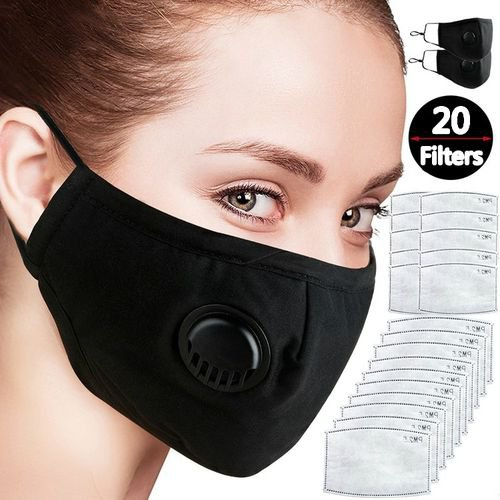mask: (1, 5, 414, 475)
